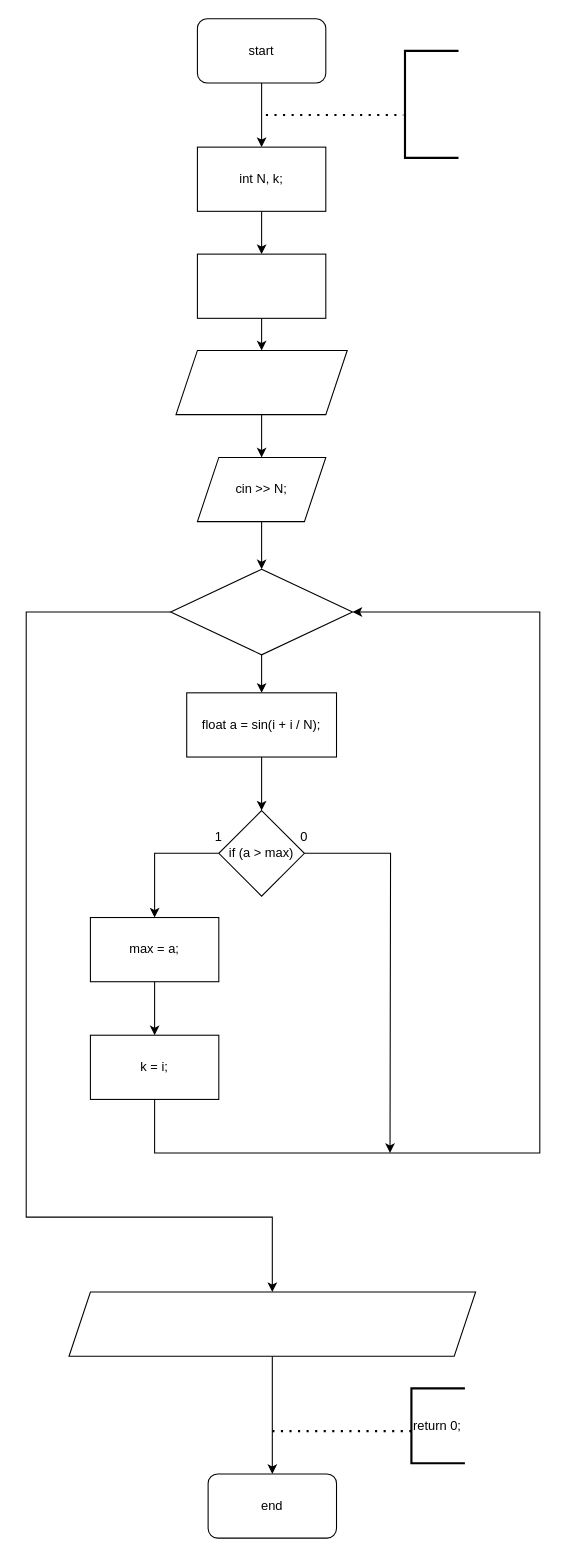
Image size: 567x1557. Some labels were removed from this diagram. The centre of each missing label's shape, as x and y in pixels:
#include <iostream> using namespace std; int main (): the point at 431,103
cout << "max = " << max << "; i = " << k << std::endl;: the point at 272,1323
cout << "введите N: ";: the point at 261,382
float max = 0;: the point at 261,285
for (int i = 1; i <= N; i++): the point at 261,611
